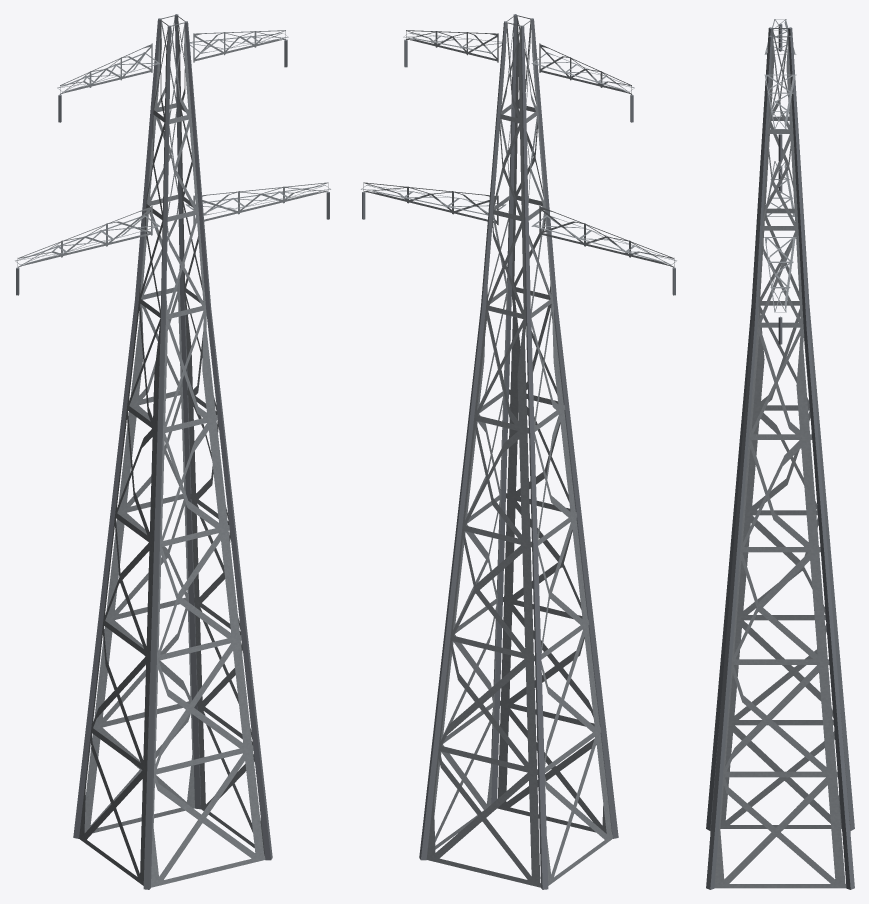
The model's file is power_tower.glb.
3 views of the same model, side by side, from view 1: azimuth 30°, elevation 25°; view 2: azimuth 150°, elevation 25°; view 3: azimuth 270°, elevation 25° (orthographic).
Parts seen in each view (by area): view 1: power_tower; view 2: power_tower; view 3: power_tower.
Boxes of the visible parts, bbox=[...] form: power_tower: bbox=[15, 14, 330, 889]; power_tower: bbox=[361, 14, 676, 889]; power_tower: bbox=[706, 19, 854, 889].
Bounding box in the file's own units: 11.12 × 28.01 × 4.57.
2 materials, 1 textured.
